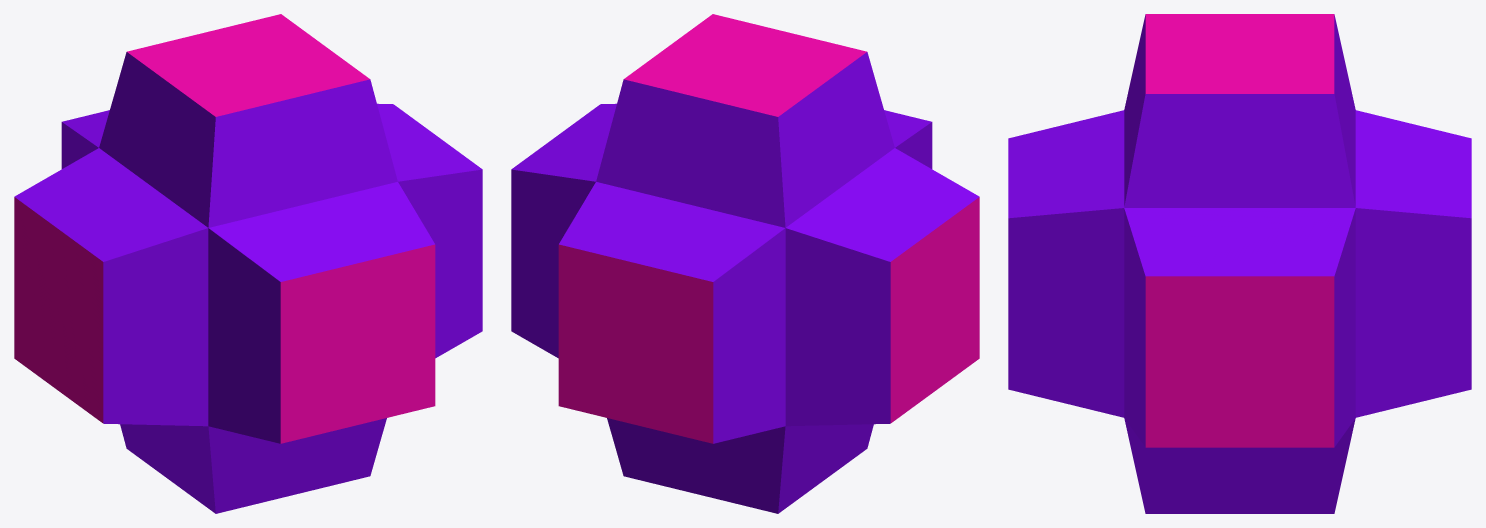
The model's file is FlyObj1.fbx.
The picture shows the model from 3 angles, left to right: view 1: azimuth 30°, elevation 25°; view 2: azimuth 150°, elevation 25°; view 3: azimuth 270°, elevation 25°; orthographic projection. The views are drawn at different scales.
Parts seen in each view (by area): view 1: FlyObj1; view 2: FlyObj1; view 3: FlyObj1.
Part boxes in pixels (x1,y1,x2,y2): FlyObj1: (14,14,482,513); FlyObj1: (511,14,979,513); FlyObj1: (1008,14,1471,513).
Bounding box in the file's own units: 1.65 × 1.65 × 1.65.
